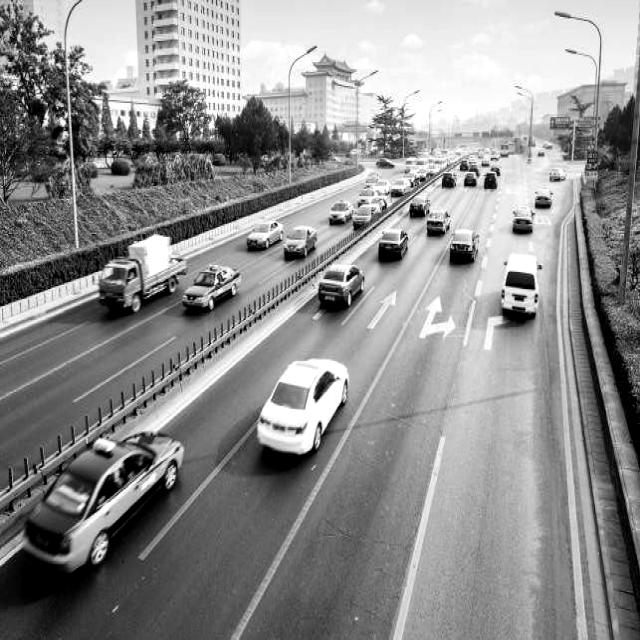cleat: (21, 58, 640, 640)
